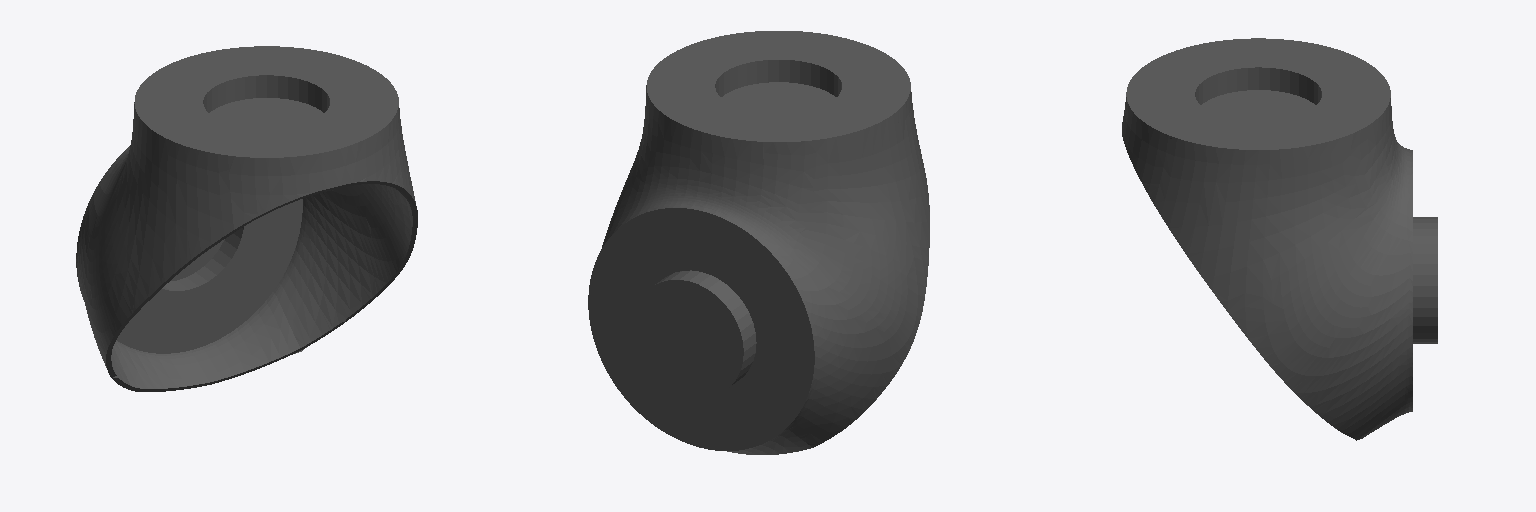
File: link_6_grey.obj
3 views of the same model, side by side, from view 1: azimuth 30°, elevation 25°; view 2: azimuth 150°, elevation 25°; view 3: azimuth 270°, elevation 25° (orthographic).
Size of the model in its own units: 0.1323 by 0.1403 by 0.1246.